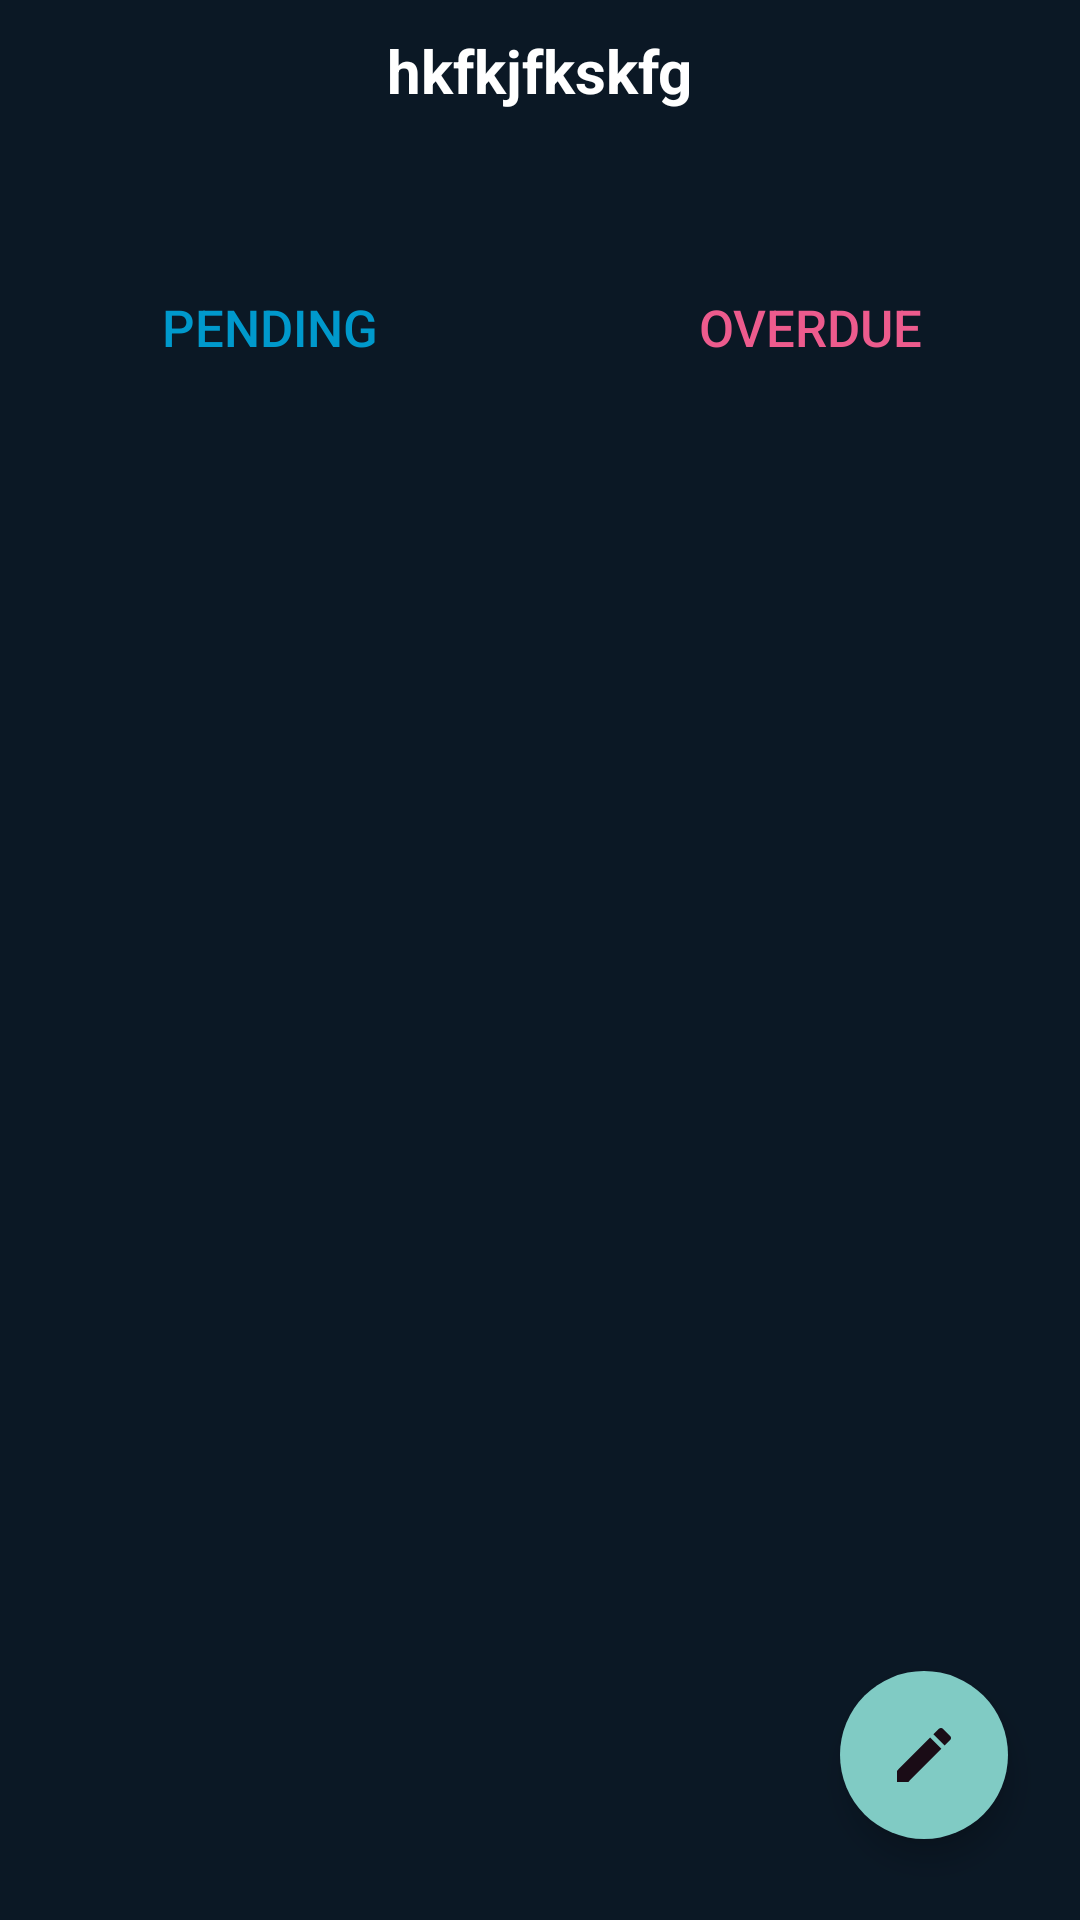

Icons on this 1080px×1920px Android screen, each with its box as [x1=x1, y1=y1, x2=x2, y2=y2]:
create: [x1=840, y1=1671, x2=1008, y2=1839]
